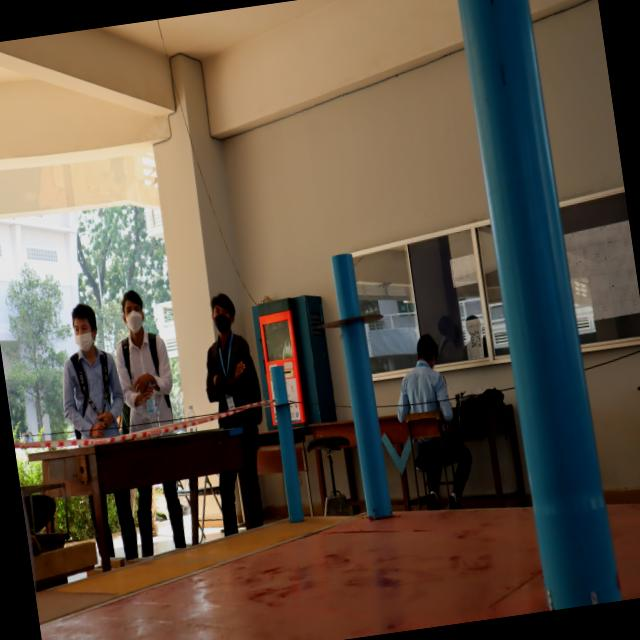pole: (312, 245, 388, 368), (256, 363, 302, 426)
